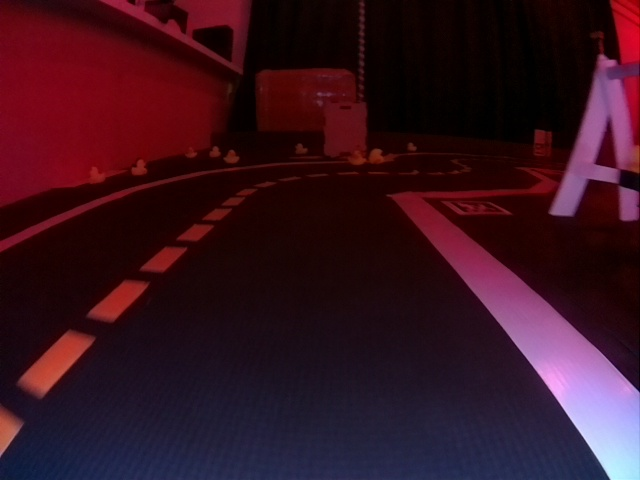Duckie: (89, 167, 105, 183), (131, 159, 147, 175), (349, 151, 365, 164), (224, 150, 239, 163), (370, 149, 383, 163), (295, 144, 308, 154), (185, 148, 194, 157), (407, 142, 416, 151), (209, 147, 219, 154)
QR code: (444, 201, 508, 214)
